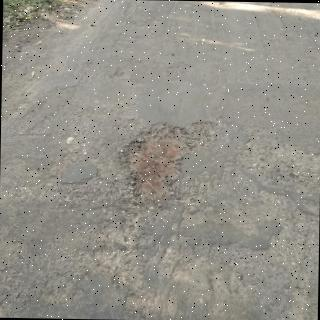pothole: (126, 121, 213, 203)
